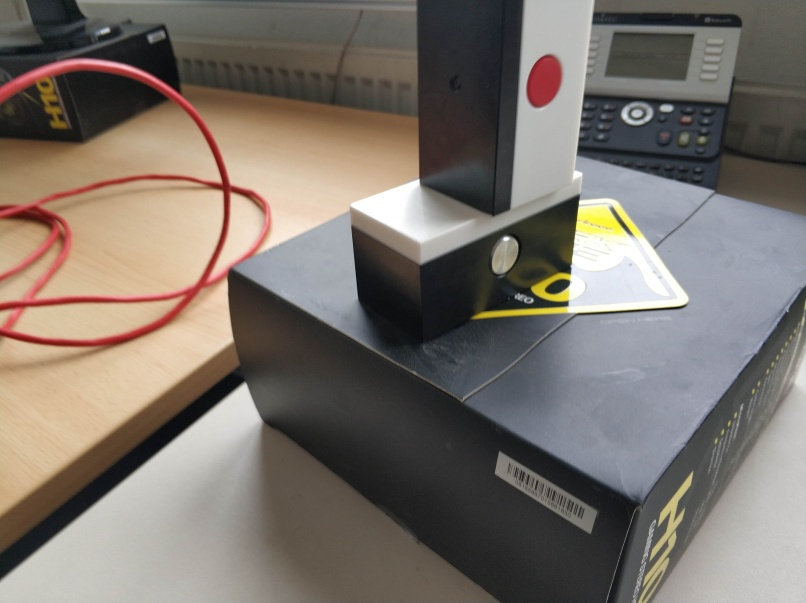black+white+red: (417, 1, 596, 216)
white+black+silver: (347, 166, 582, 350)
